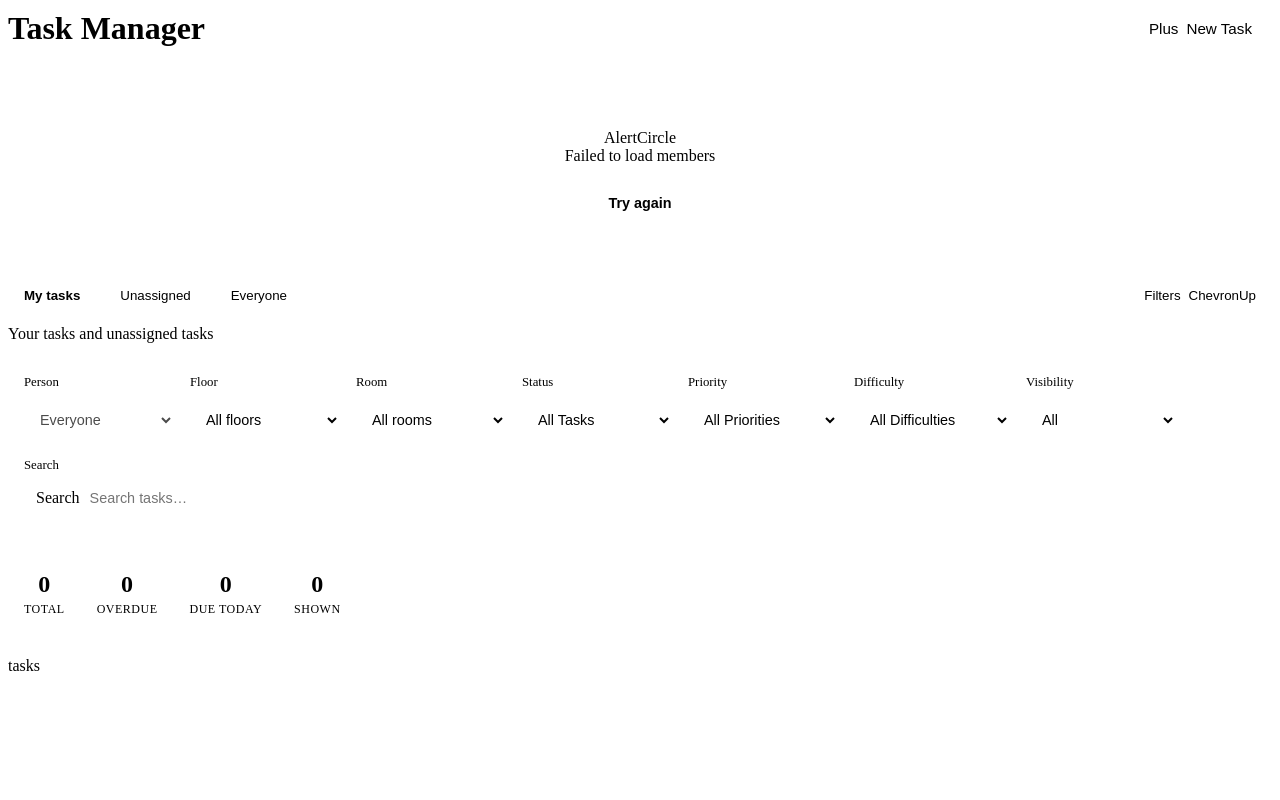
Test case: TaskManager › keeps tasks usable when member names fail and retries only the member read
Expected: the element with test id "member-names-error" shows "Failed to load members", [565,147,715,164]
Expected: the text "tasks" is shown, [8,657,40,674]
Click the button "Try again".
click(640, 203)  # box [589,181,691,225]
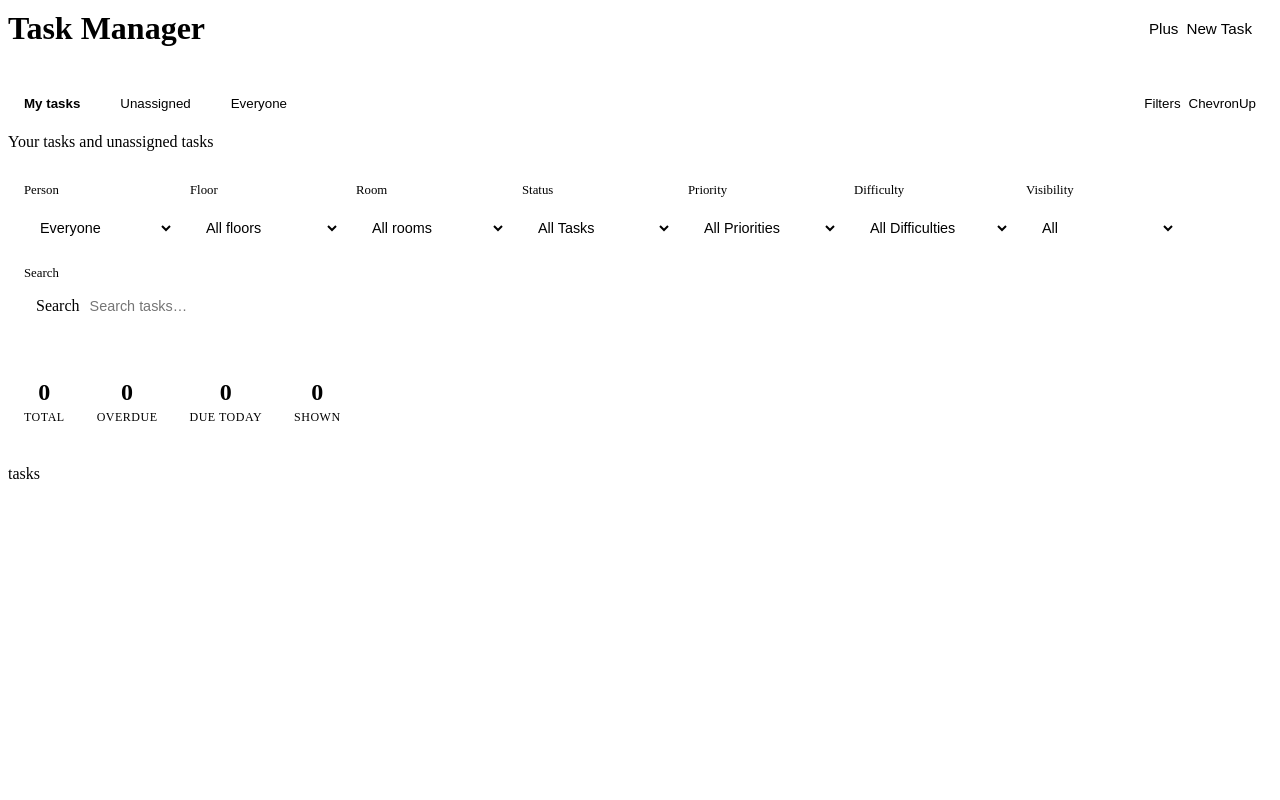
Expected: the dropdown with test id "person-filter" is enabled, [24,206,174,250]
